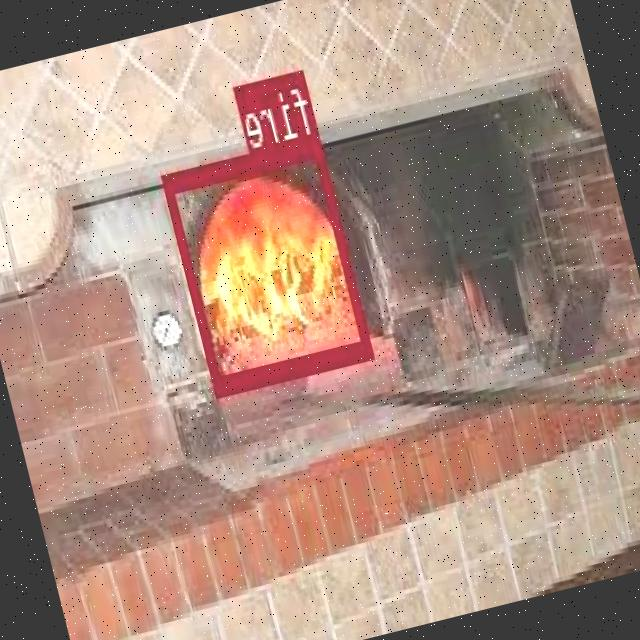fire: (163, 134, 375, 392)
